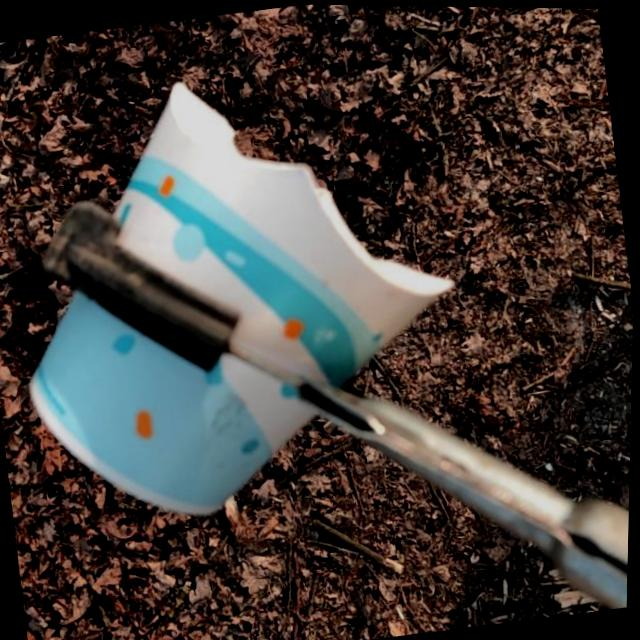Paper: (0, 37, 493, 541)
